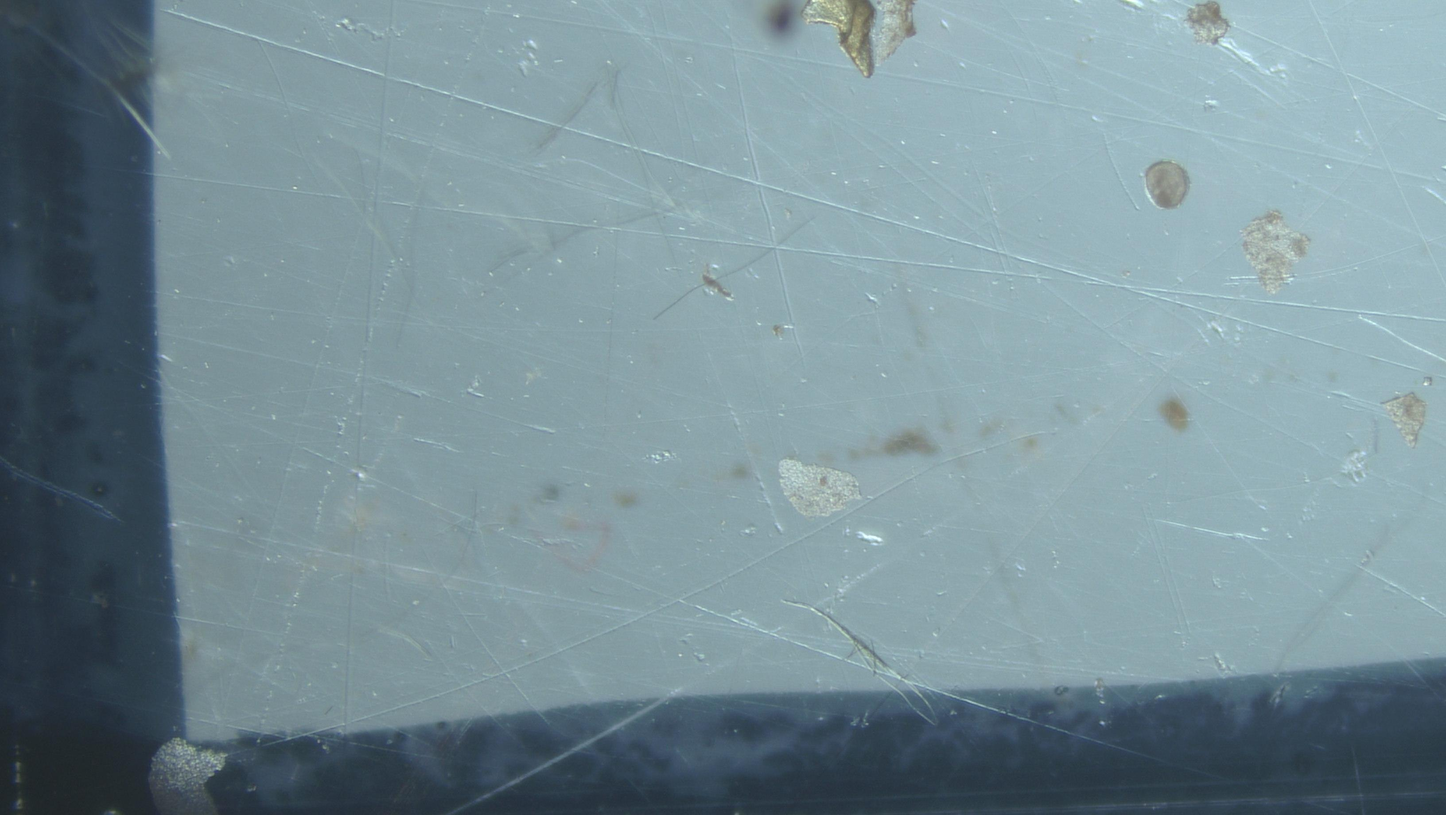live: (1145, 161, 1190, 209)
